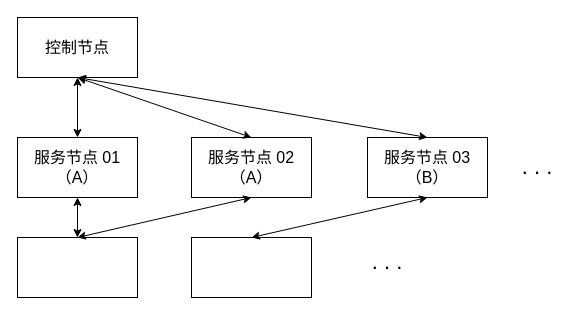
Image size: 585x315. Some labels were removed from this diagram. Each missing label, with the centre of its shape:
数据共享中心 （用户空间A）: the point at 77,267
数据共享中心 （用户空间B）: the point at 251,267
